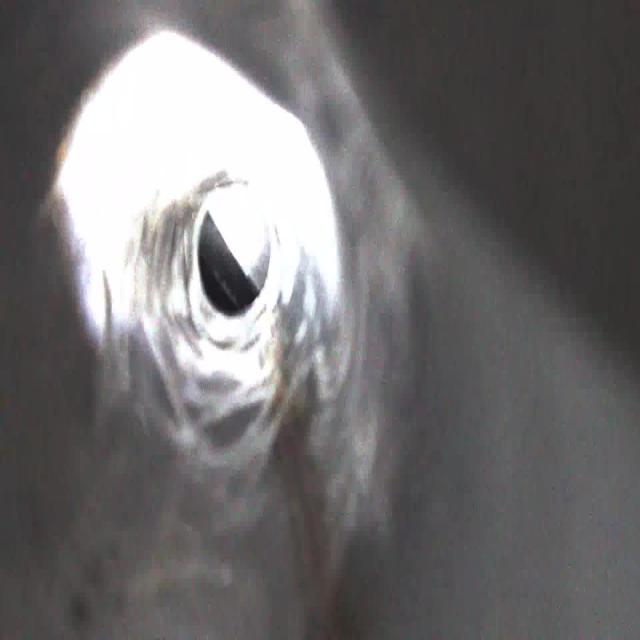crack: (130, 335, 184, 426), (197, 360, 260, 436), (157, 210, 195, 320)
